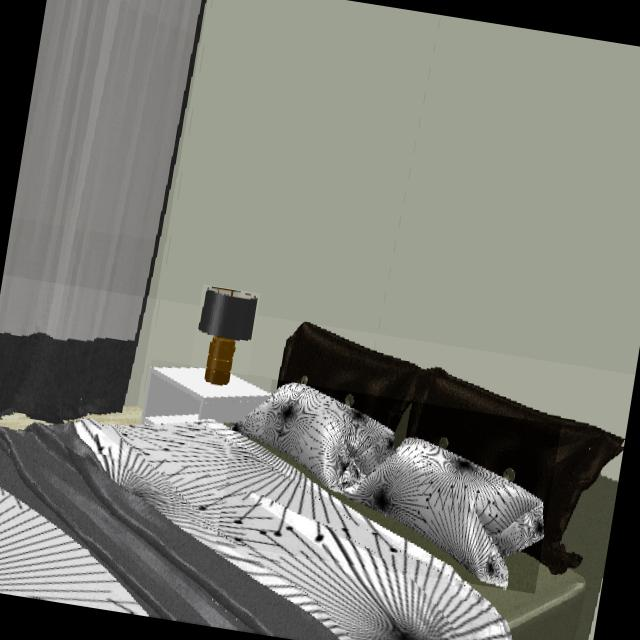bed: (0, 323, 623, 640)
lamp: (196, 287, 259, 390)
nighttable: (145, 367, 269, 421)
pillow: (234, 384, 544, 589)
